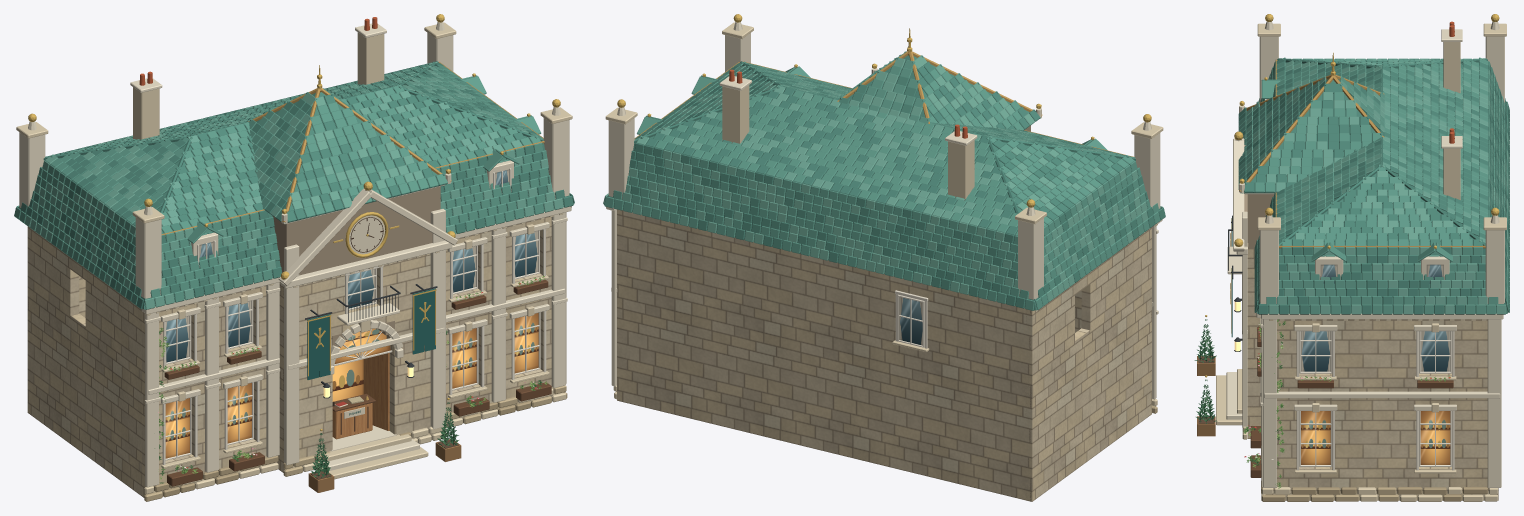
The picture shows the model from 3 angles, left to right: view 1: azimuth 30°, elevation 25°; view 2: azimuth 150°, elevation 25°; view 3: azimuth 270°, elevation 25°; orthographic projection. The views are drawn at different scales.
Visible parts, largest first — view 1: square_ashlar, square_limestone_pale, square_copper, square_copper_dark, square_copper_light, square_limestone, square_white, square_window_shop, square_window_pane, square_wood_dark, square_oak, square_banner (+8 smaller); view 2: square_ashlar, square_copper, square_copper_dark, square_copper_light, square_limestone_pale, square_limestone, square_brass, square_window_pane, square_white; view 3: square_copper, square_ashlar, square_copper_dark, square_limestone_pale, square_copper_light, square_limestone, square_white, square_window_shop, square_window_pane, square_stone_dark, square_brass, square_wood_dark (+5 smaller).
Part boxes in pixels (box(x1,y1,x2,y2)): square_ashlar: box(27, 186, 554, 497); square_limestone_pale: box(19, 22, 571, 487); square_copper: box(14, 65, 551, 305); square_copper_dark: box(18, 61, 574, 309); square_copper_light: box(24, 62, 563, 309); square_limestone: box(16, 22, 572, 494); square_white: box(162, 168, 546, 464); square_window_shop: box(165, 313, 538, 458); square_window_pane: box(166, 169, 538, 362); square_wood_dark: box(164, 279, 551, 486); square_oak: box(332, 353, 389, 439); square_banner: box(307, 288, 435, 379); square_ashlar: box(617, 125, 1151, 501); square_copper: box(604, 54, 1160, 310); square_copper_dark: box(604, 51, 1165, 310); square_copper_light: box(603, 55, 1162, 302); square_limestone_pale: box(606, 22, 1162, 399); square_limestone: box(605, 22, 1163, 406); square_brass: box(634, 51, 1133, 156); square_window_pane: box(899, 297, 922, 345); square_white: box(895, 290, 928, 348); square_copper: box(1238, 57, 1509, 314); square_ashlar: box(1244, 145, 1498, 500); square_copper_dark: box(1238, 57, 1509, 314); square_limestone_pale: box(1226, 21, 1504, 487); square_copper_light: box(1243, 58, 1509, 314); square_limestone: box(1216, 23, 1506, 501); square_white: box(1265, 99, 1454, 470); square_window_shop: box(1301, 411, 1450, 464); square_window_pane: box(1301, 264, 1450, 371); square_stone_dark: box(1262, 487, 1487, 501); square_brass: box(1239, 59, 1485, 248); square_wood_dark: box(1198, 326, 1453, 477).
Size of the model in its own units: 14.68 by 11.62 by 9.51.
Materials: 35 (4 with a texture image).
